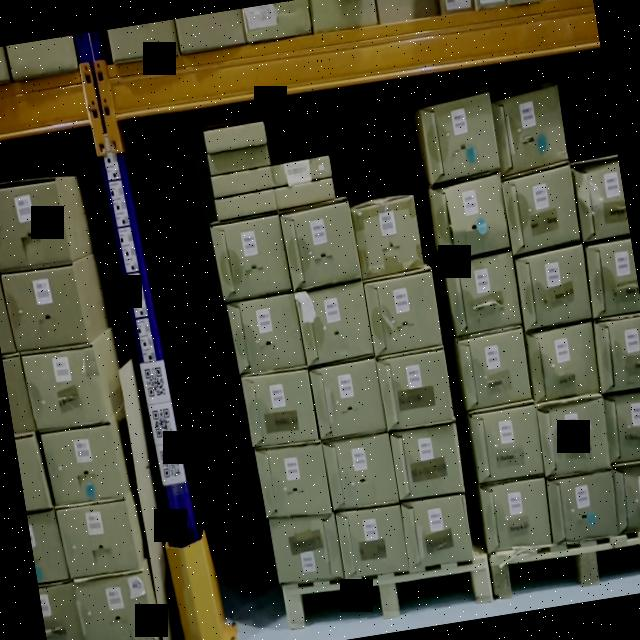box: (2, 264, 90, 352), (501, 162, 581, 256), (364, 268, 443, 358), (42, 423, 124, 508), (281, 204, 361, 290), (27, 346, 106, 432), (422, 96, 500, 182), (434, 174, 511, 261), (213, 215, 290, 300), (228, 294, 306, 375), (0, 180, 67, 272), (297, 284, 373, 365), (458, 328, 534, 409), (256, 442, 332, 522), (378, 353, 454, 433), (537, 394, 610, 476), (310, 362, 386, 439), (491, 92, 568, 168), (526, 322, 602, 399), (390, 424, 466, 500), (64, 500, 136, 580), (242, 371, 318, 446), (516, 251, 592, 326), (446, 260, 522, 333), (471, 406, 544, 482), (324, 435, 399, 508), (481, 477, 554, 552), (336, 506, 410, 579), (402, 493, 474, 567), (546, 470, 620, 542), (352, 200, 422, 276), (75, 575, 154, 640), (270, 516, 344, 584), (573, 158, 630, 238), (587, 239, 640, 313), (594, 315, 640, 391), (603, 388, 640, 463), (27, 511, 64, 583), (38, 584, 82, 640), (14, 434, 46, 509), (2, 356, 32, 433), (214, 188, 276, 222), (274, 179, 334, 211), (613, 462, 640, 533), (208, 144, 270, 174), (203, 122, 266, 150), (270, 157, 332, 185), (212, 168, 273, 195), (0, 272, 11, 354)
